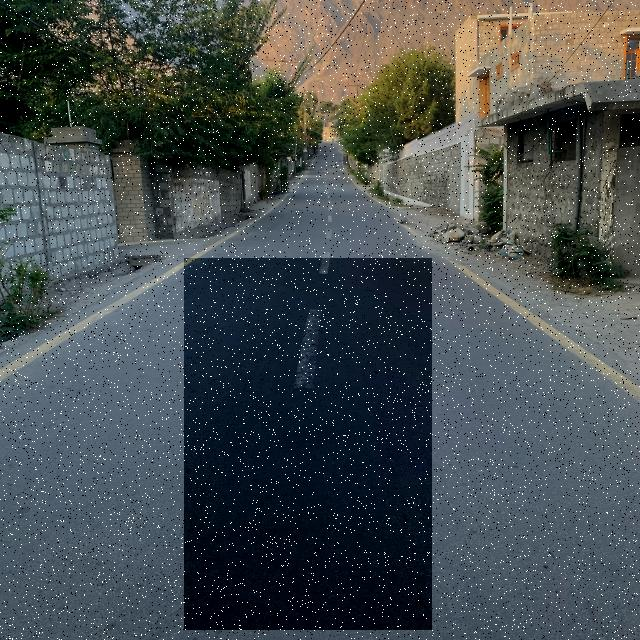straight: (184, 258, 432, 630)
